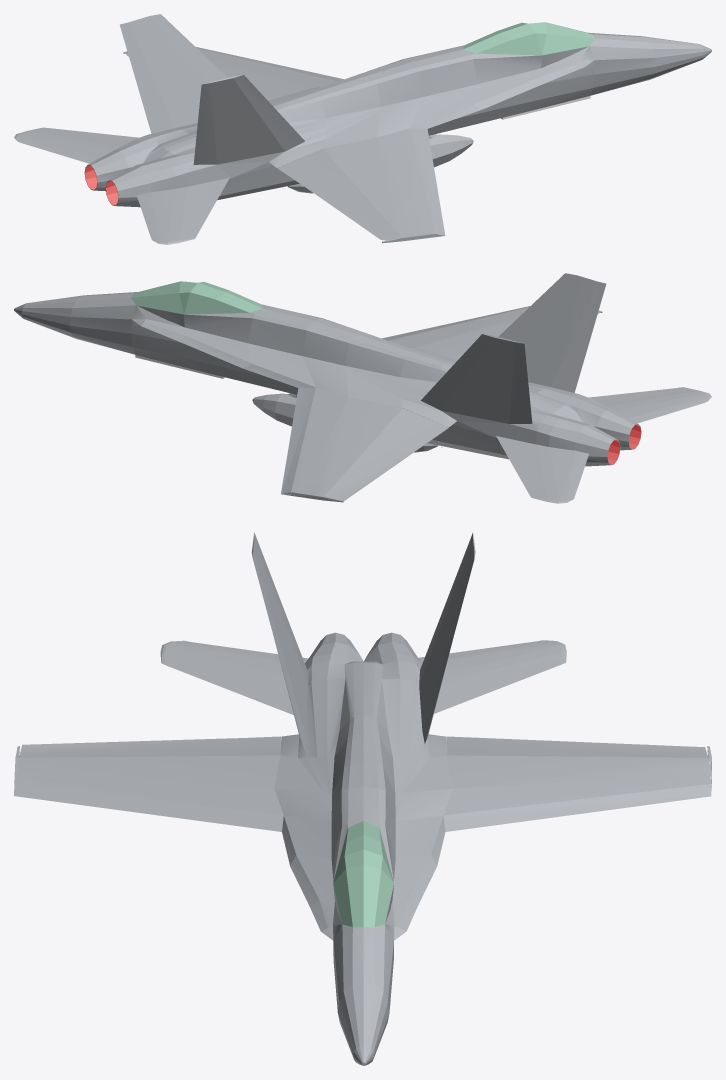
The model's file is f18GearUp.glb.
3 renders of one model, top to bottom at view 1: azimuth 30°, elevation 25°; view 2: azimuth 150°, elevation 25°; view 3: azimuth 270°, elevation 25°, orthographic. The views are drawn at different scales.
Visible parts, largest first — view 1: aircraft_0; view 2: aircraft_0; view 3: aircraft_0.
Boxes of the visible parts, bbox=[...] form: aircraft_0: bbox=[14, 14, 711, 244]; aircraft_0: bbox=[14, 273, 711, 503]; aircraft_0: bbox=[14, 532, 711, 1065].
Size of the model in its own units: 17 by 4.7 by 12.3.
